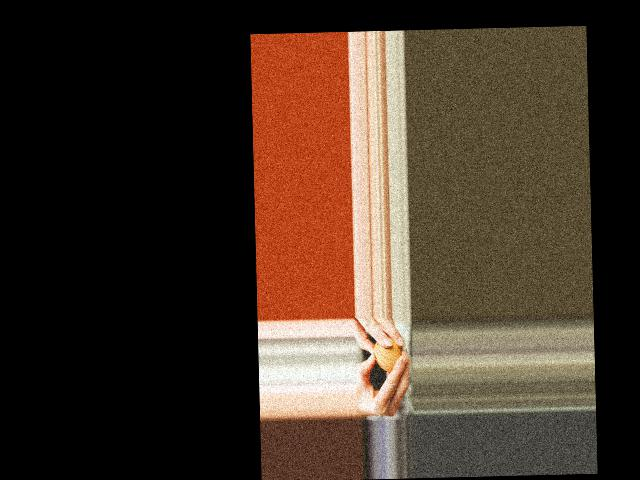egg: (373, 336, 402, 371)
